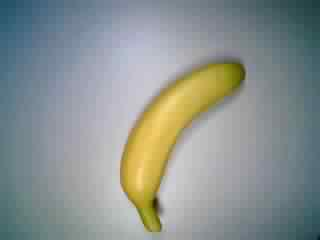banana: (114, 55, 262, 233)
